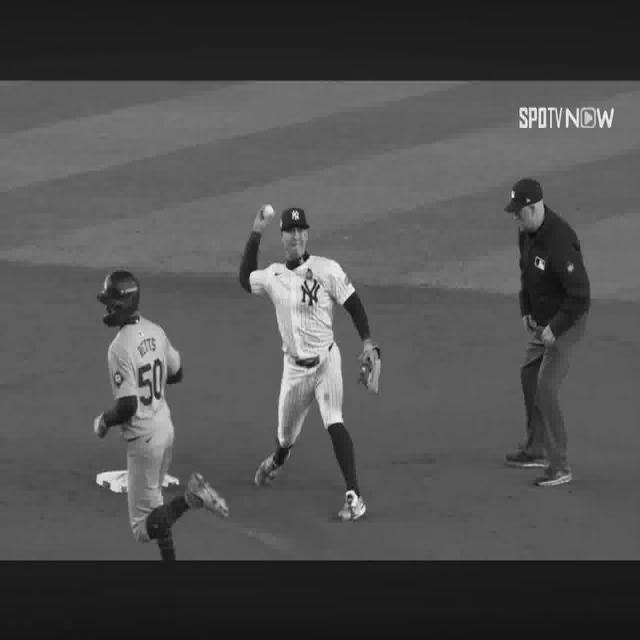base: (96, 470, 128, 493)
baseball: (264, 207, 273, 216)
baseball_glove: (359, 342, 382, 393)
shoe: (185, 473, 229, 517), (254, 455, 282, 487), (338, 490, 366, 522), (505, 450, 546, 468), (536, 468, 572, 487)
